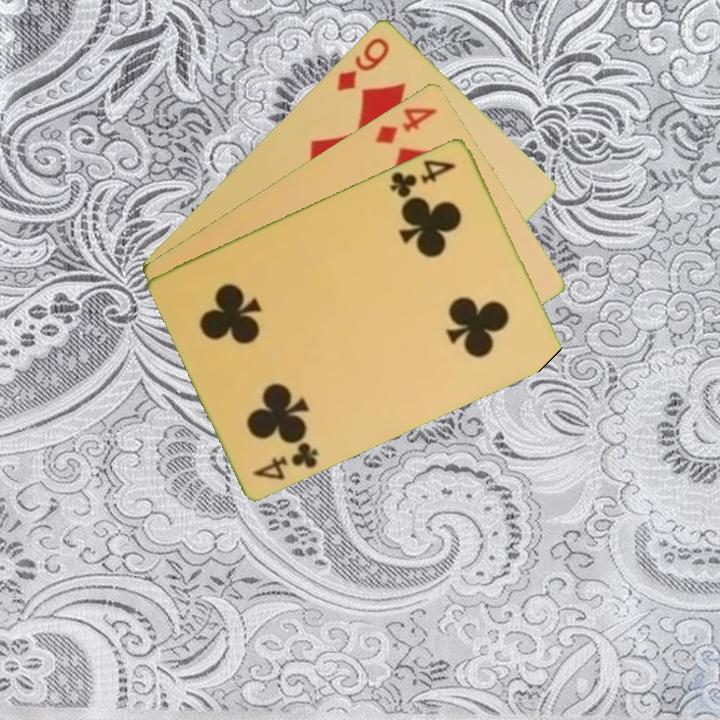4c: (387, 155, 459, 201), (249, 438, 321, 483)
4d: (371, 103, 440, 147)
9d: (333, 33, 392, 94)
